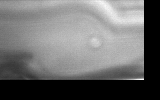cell: (79, 30, 103, 52), (71, 31, 94, 52), (86, 33, 103, 50)
